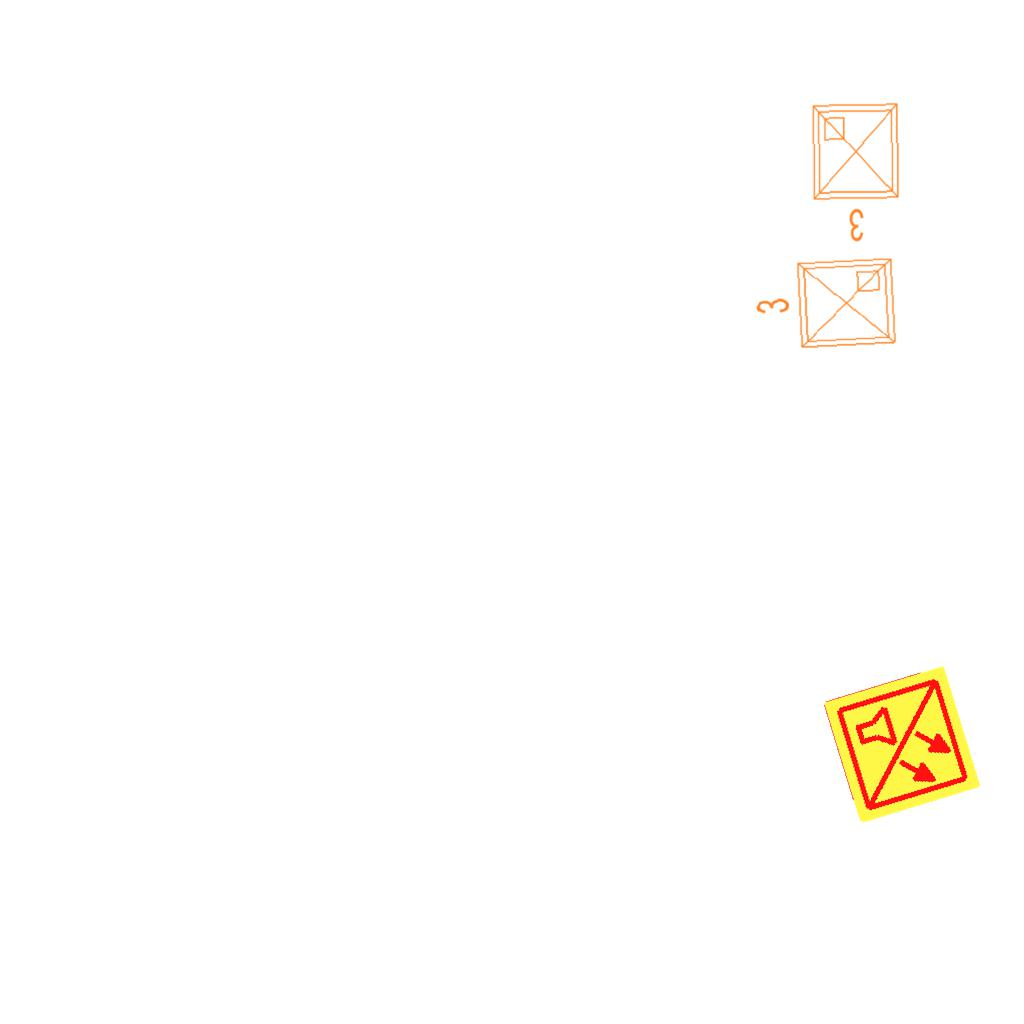Einbaudownlights_LED_Konferenzraeume: (748, 250, 904, 362), (804, 96, 912, 248)
OKW_Multisensormelder_(Kombination_optischer_Rauch-Kahlenmonoxid_Waerme-Melder): (819, 662, 985, 828)
